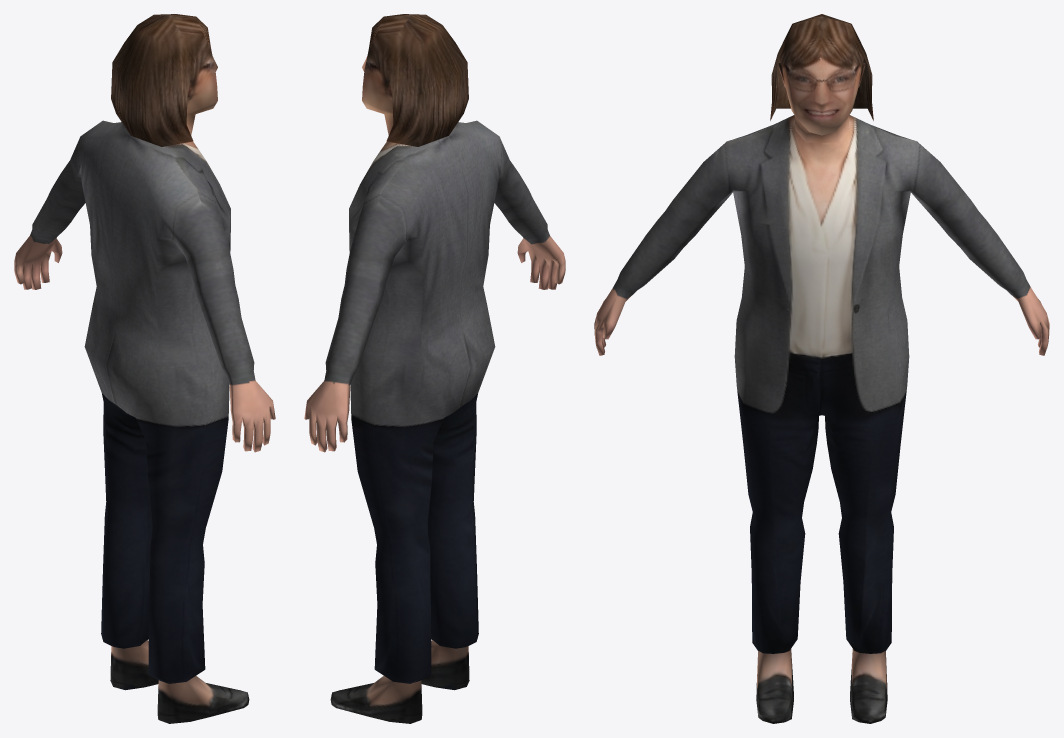
The model's file is Character_39_Female.fbx.
The picture shows the model from 3 angles, left to right: view 1: azimuth 30°, elevation 25°; view 2: azimuth 150°, elevation 25°; view 3: azimuth 270°, elevation 25°; orthographic projection.
Parts seen in each view (by area): view 1: Character_39_Female; view 2: Character_39_Female; view 3: Character_39_Female.
Part boxes in pixels (x1,y1,x2,y2): Character_39_Female: (14,14,275,723); Character_39_Female: (304,14,565,723); Character_39_Female: (594,14,1049,723).
Size of the model in its own units: 0.2846 by 1.57 by 0.9539.
